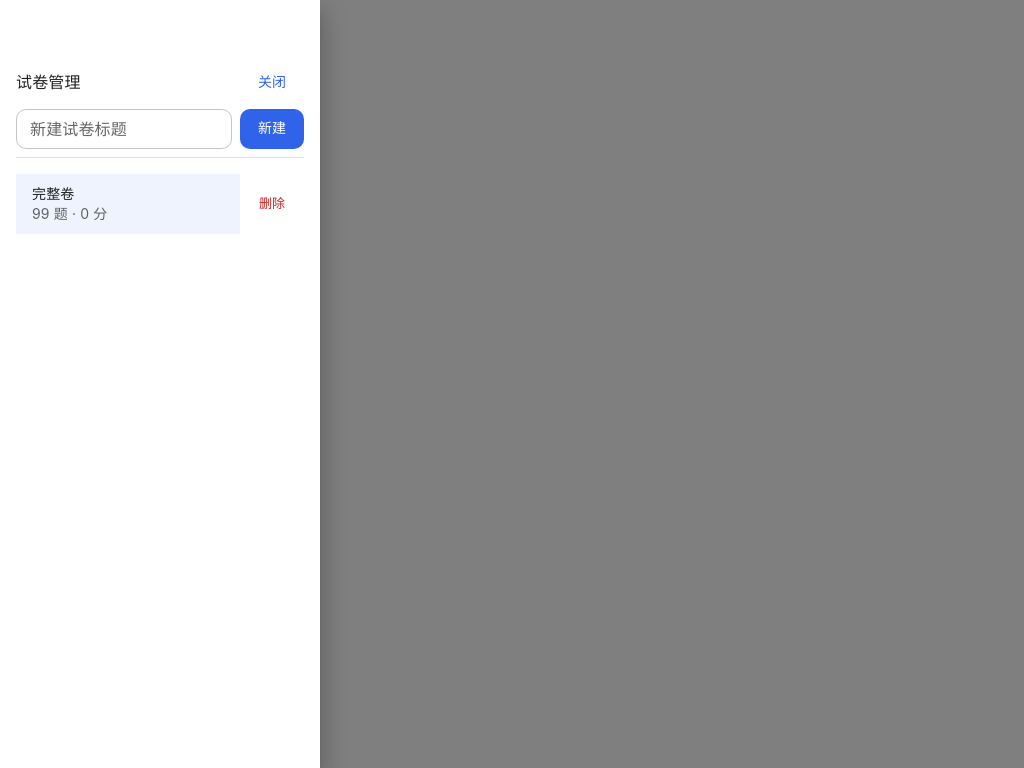
Test: 整卷读取失败不出现可提交确认
Click the button with aria-label "删除试卷完整卷".
click(272, 204)  # box [240,188,304,219]
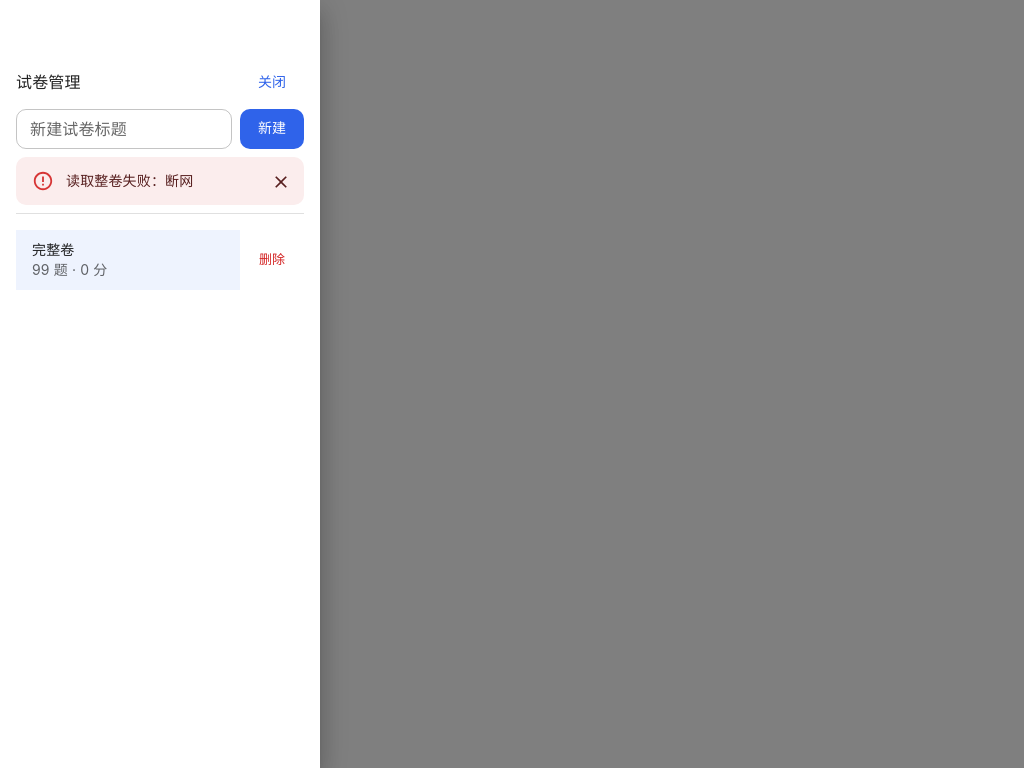
expect the text "读取整卷失败：断网" is shown: met, box [66,172,193,188]
